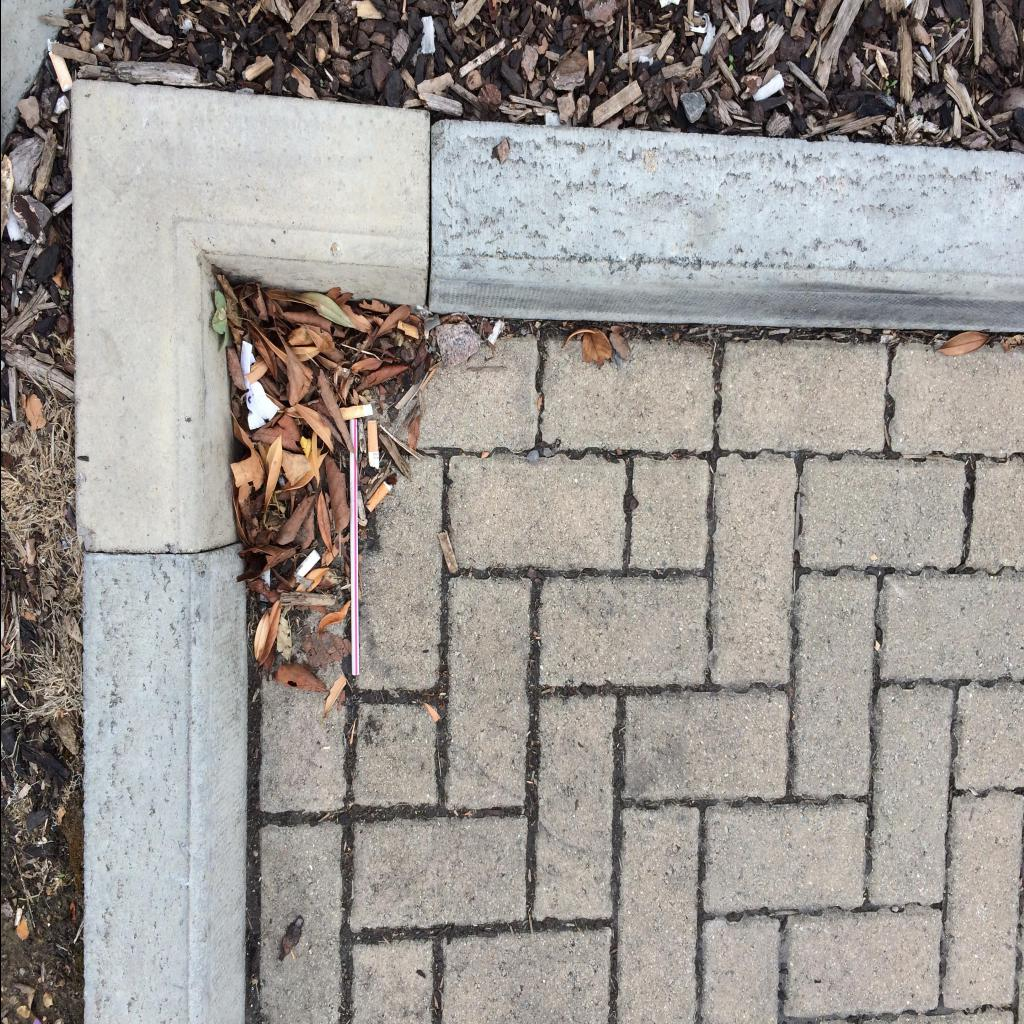Cigarette: (48, 50, 72, 91), (364, 481, 392, 511), (751, 74, 783, 100), (294, 551, 318, 583), (366, 421, 378, 469), (338, 404, 372, 420)
Normal paper: (239, 342, 279, 430)
Plastic straw: (348, 420, 358, 675)
